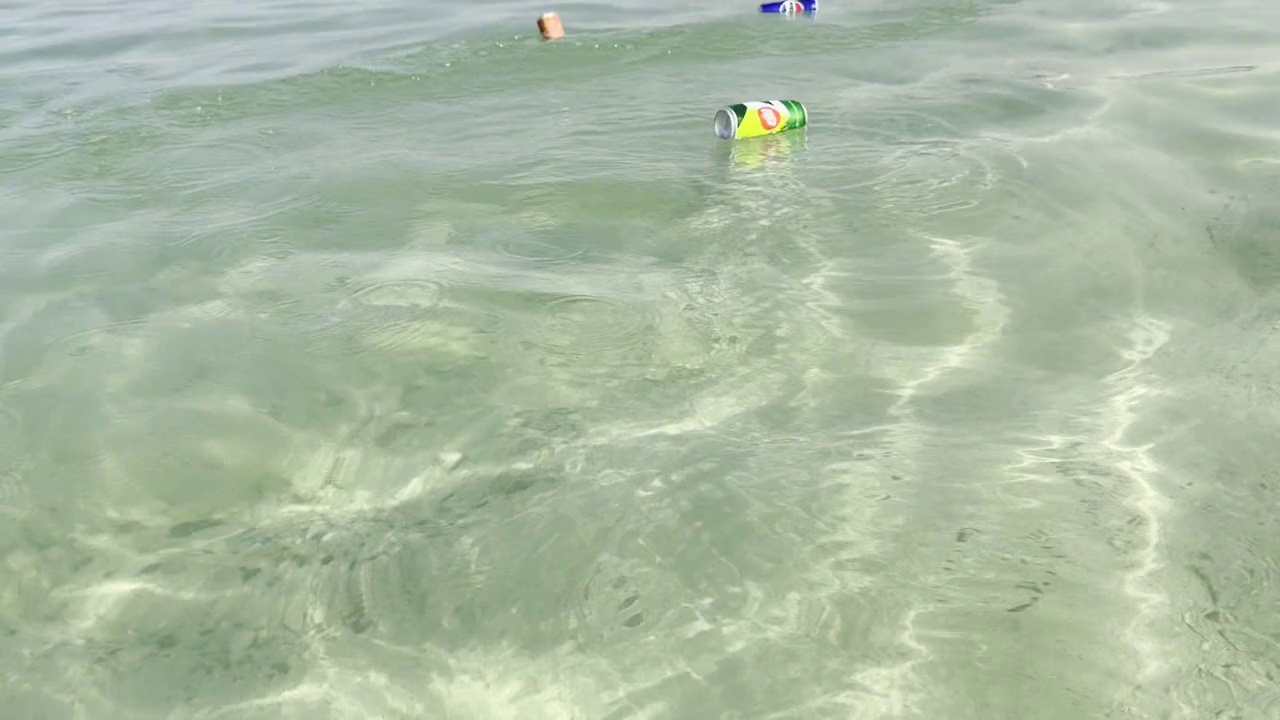debris: (711, 97, 813, 145), (531, 9, 571, 54), (756, 0, 821, 17)
